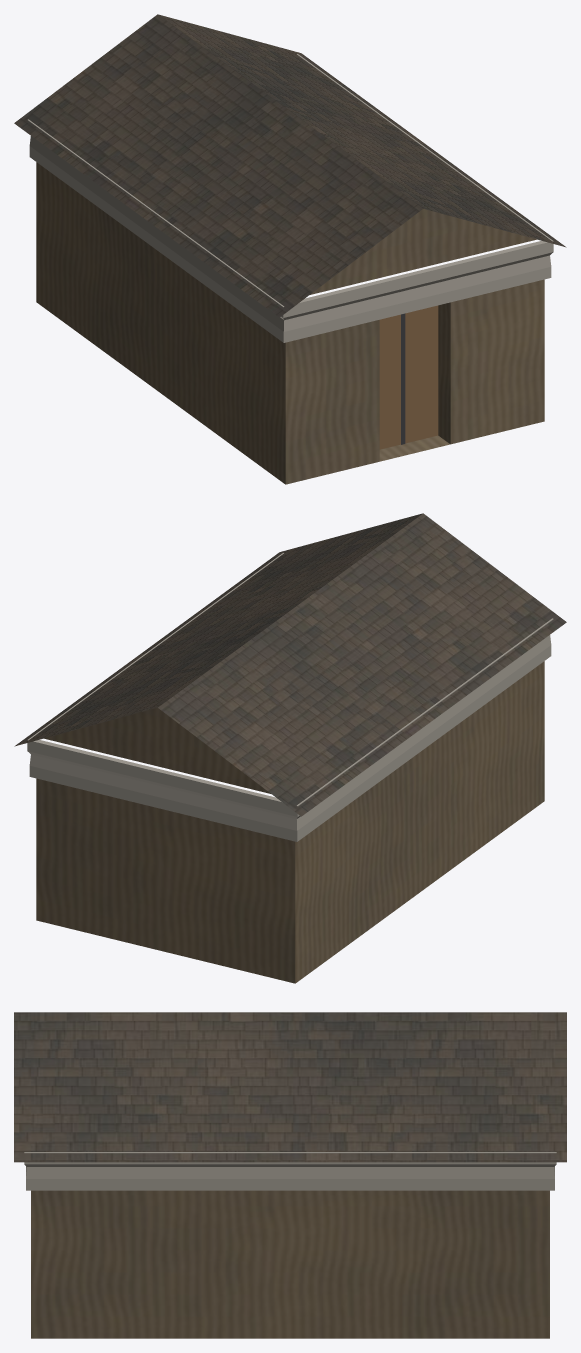
File: dalton_shed_1871__shed_1871.glb
The picture shows the model from 3 angles, top to bottom: view 1: azimuth 30°, elevation 25°; view 2: azimuth 150°, elevation 25°; view 3: azimuth 270°, elevation 25°; orthographic projection. The views are drawn at different scales.
Parts seen in each view (by area): view 1: dalton_shed_1871__shed_1871; view 2: dalton_shed_1871__shed_1871; view 3: dalton_shed_1871__shed_1871.
Boxes of the visible parts, x1,y1,x2,y2 form: dalton_shed_1871__shed_1871: (14, 14, 566, 484); dalton_shed_1871__shed_1871: (14, 513, 566, 983); dalton_shed_1871__shed_1871: (14, 1012, 566, 1338).
Bounding box in the file's own units: 4.06 × 3.38 × 6.5.
Materials: 5 (2 with a texture image).
